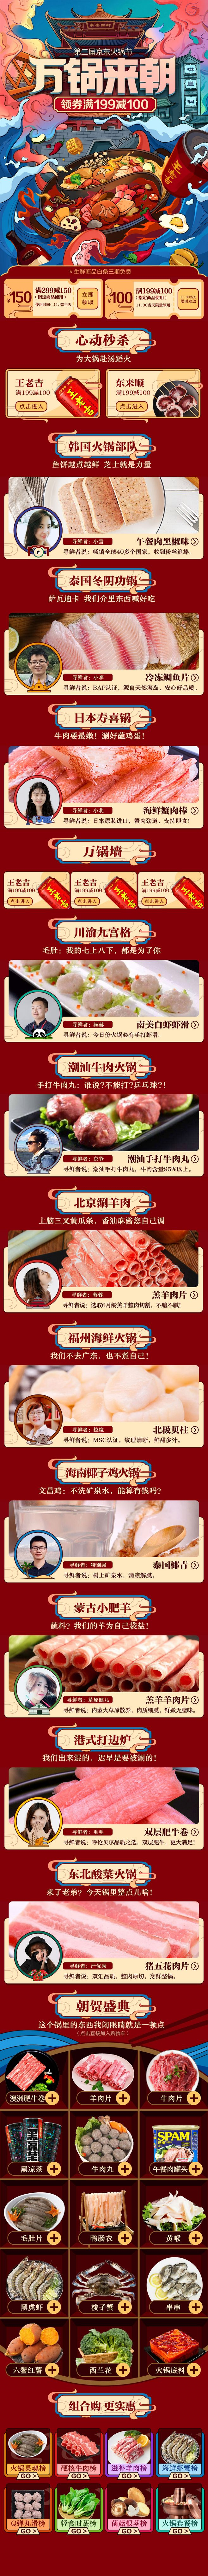floors: (0, 1988, 208, 2380), (0, 2389, 208, 2543), (0, 563, 208, 698), (0, 427, 208, 560), (0, 913, 208, 1045), (0, 1318, 208, 1449), (0, 1722, 208, 1853), (0, 1454, 205, 1587), (0, 1048, 208, 1178), (0, 700, 208, 828), (0, 1186, 208, 1314), (0, 1590, 208, 1718), (0, 1856, 208, 1985), (0, 325, 208, 424), (0, 833, 208, 910), (0, 266, 208, 322)
toutu: (0, 0, 208, 266)
